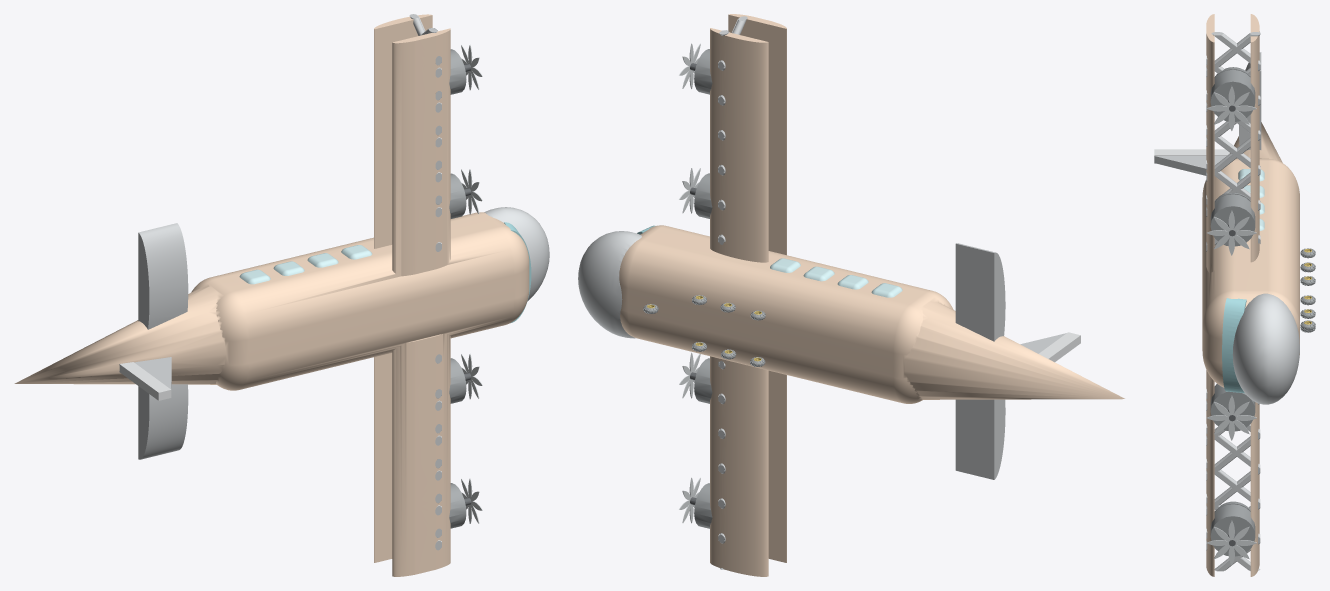
File: cougar_airplane.glb
3 views of the same model, side by side, from view 1: azimuth 30°, elevation 25°; view 2: azimuth 150°, elevation 25°; view 3: azimuth 270°, elevation 25° (orthographic).
Visible parts, largest first — view 1: Object_7, Object_2, Object_4, Object_9, Object_3, Object_5; view 2: Object_7, Object_2, Object_4, Object_9, Object_3; view 3: Object_7, Object_4, Object_9, Object_2, Object_10, Object_5, Object_3.
Boxes of the visible parts, x1,y1,x2,y2 form: Object_7: (14,14,529,576); Object_2: (134,14,441,550); Object_4: (461,44,549,523); Object_9: (449,49,466,528); Object_3: (239,245,372,284); Object_5: (119,362,171,400); Object_7: (619,14,1124,576); Object_2: (718,16,1066,569); Object_4: (578,43,700,523); Object_9: (643,49,765,528); Object_3: (770,258,902,297); Object_7: (1202,14,1299,576); Object_4: (1206,86,1299,565); Object_9: (1210,67,1315,556); Object_2: (1154,32,1261,571); Object_10: (1222,298,1246,393); Object_5: (1154,149,1229,163); Object_3: (1238,169,1264,230).
Size of the model in its own units: 278 by 264 by 72.
